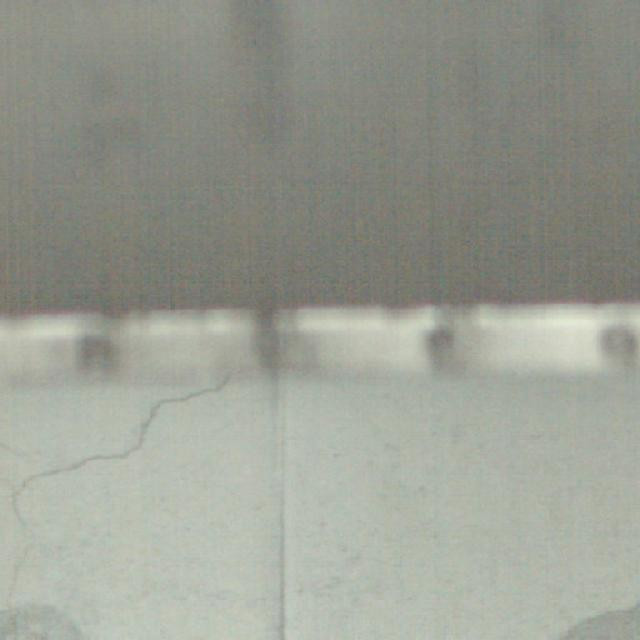Network: (0, 382, 251, 638)
